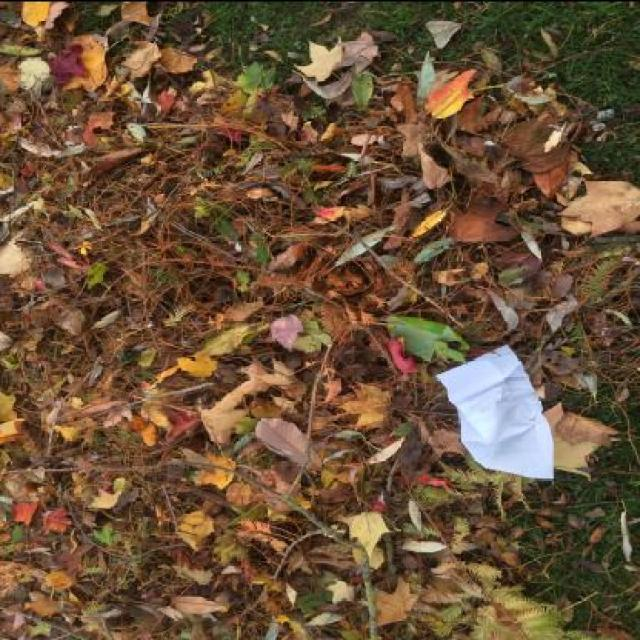paper: (435, 344, 554, 478)
